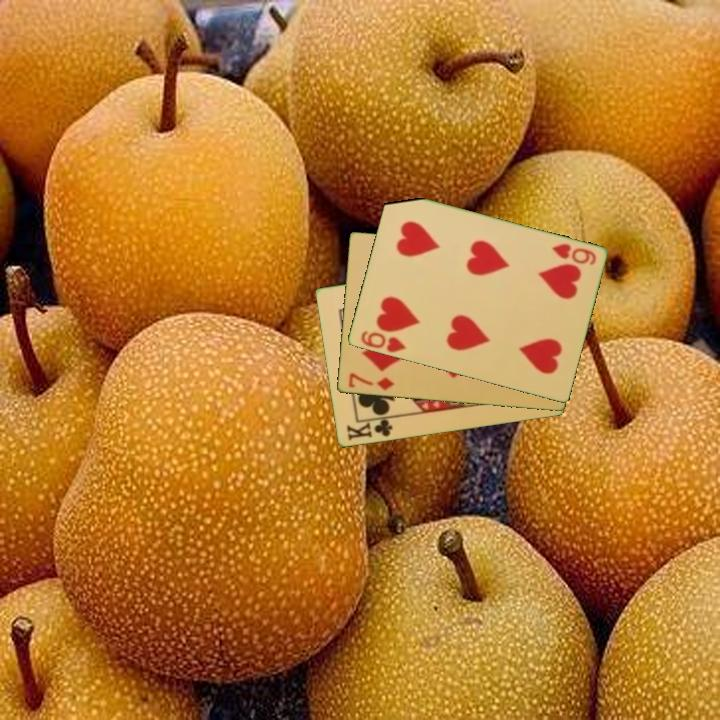6h: (357, 327, 408, 356), (548, 240, 599, 268)
7d: (344, 369, 396, 393)
Kc: (343, 414, 396, 443)
